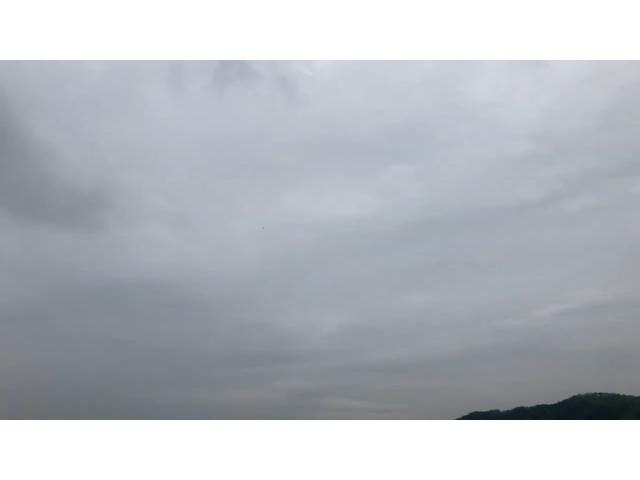Anti-Drone: (251, 219, 275, 237)
